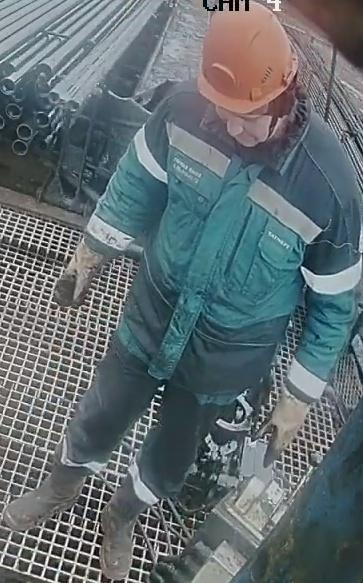gloves: (253, 374, 315, 468), (51, 226, 112, 308)
helmet: (195, 1, 299, 114)
vest: (116, 85, 358, 401)
